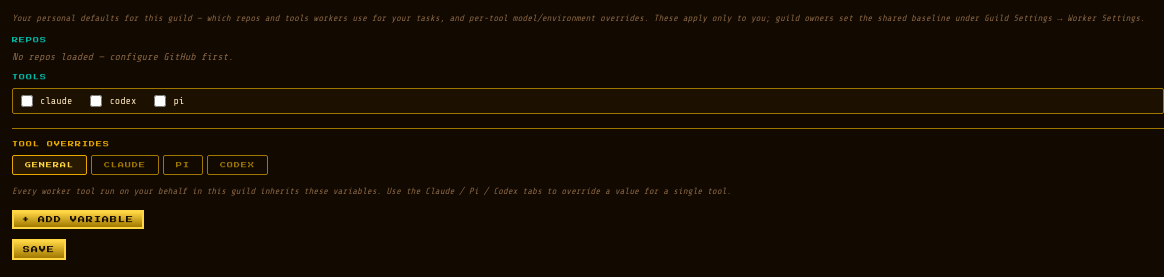
Test case: UserWorkerSettings › saves the edited settings via PUT
Click the button with class "uws-save-btn": (39, 250) [12, 239, 66, 260]
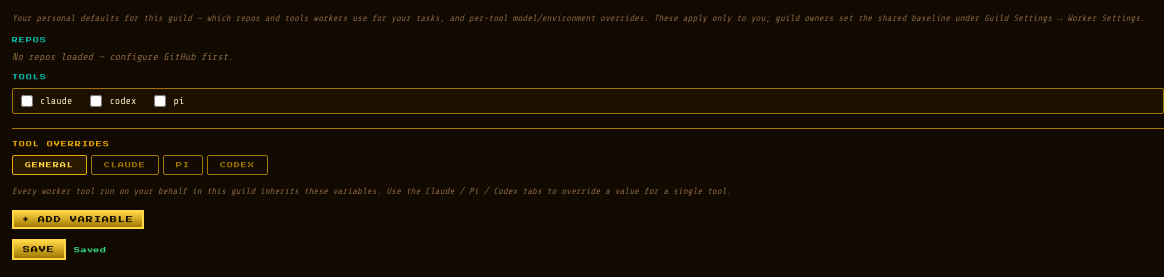
Check: the text "Saved" is shown, box [74, 247, 106, 253]
